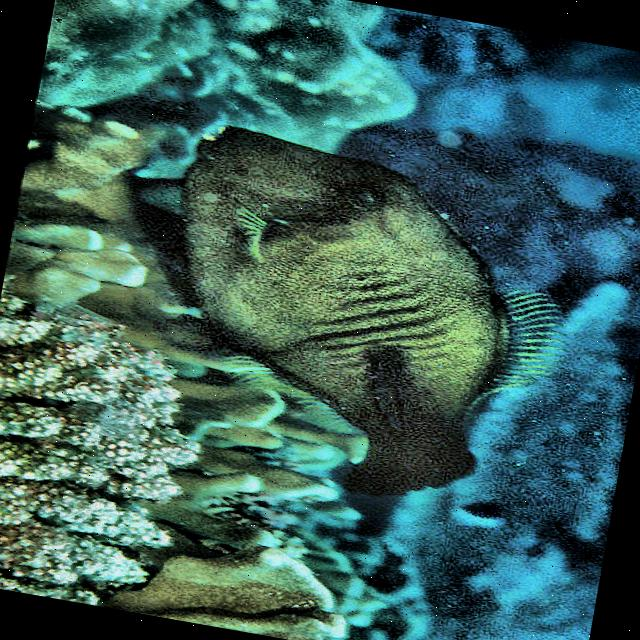fish: (0, 92, 598, 527)
